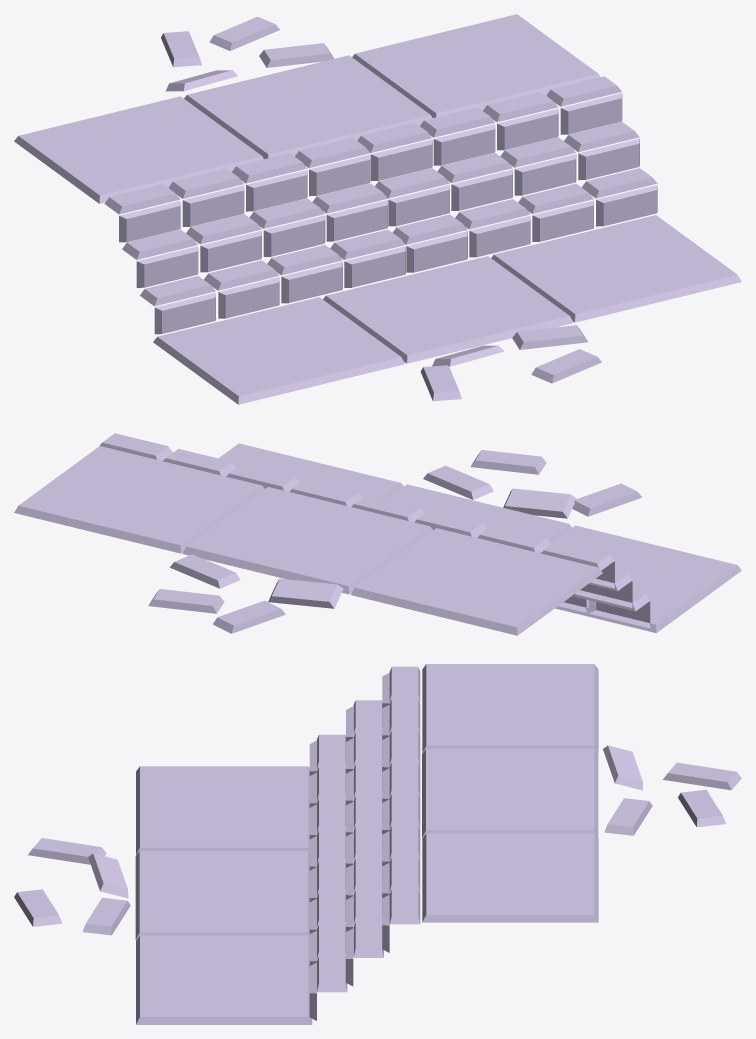
The picture shows the model from 3 angles, top to bottom: view 1: azimuth 30°, elevation 25°; view 2: azimuth 150°, elevation 25°; view 3: azimuth 270°, elevation 25°; orthographic projection. The views are drawn at different scales.
Parts seen in each view (by area): view 1: Object15; view 2: Object15; view 3: Object15.
Boxes of the visible parts, left/top/right/bottom form: Object15: left=14, top=14, right=741, bottom=404; Object15: left=14, top=433, right=741, bottom=635; Object15: left=14, top=664, right=741, bottom=1024.
Bounding box in the file's own units: 517 × 112 × 624.
